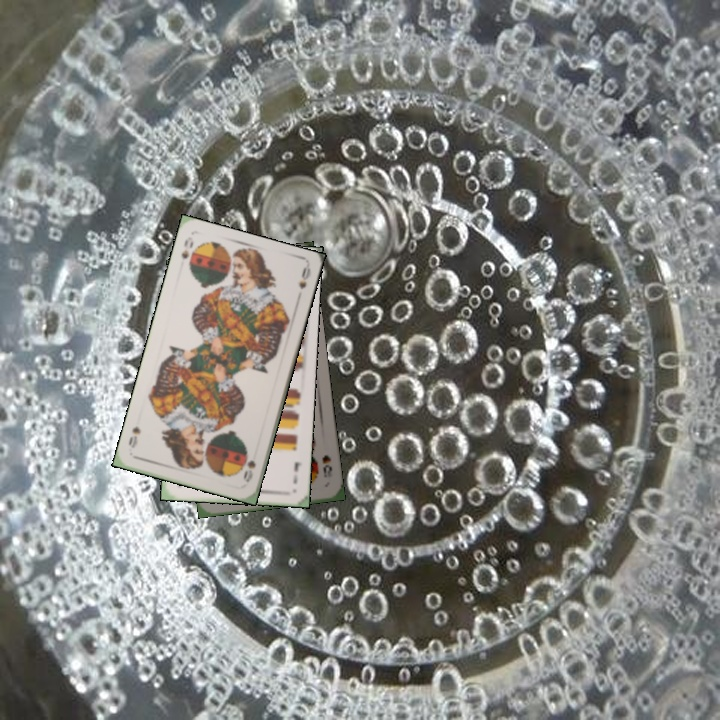E7: (290, 458, 304, 486)
S8: (318, 451, 335, 480)
SO: (177, 235, 196, 268), (239, 456, 258, 485)
